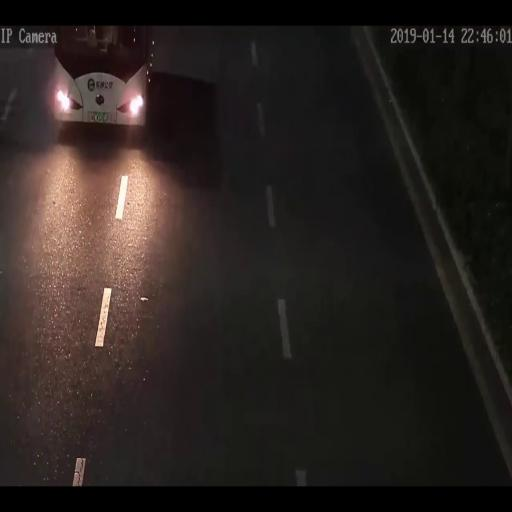License plate: (88, 111, 110, 124)
Vehicle: (51, 25, 153, 132)
